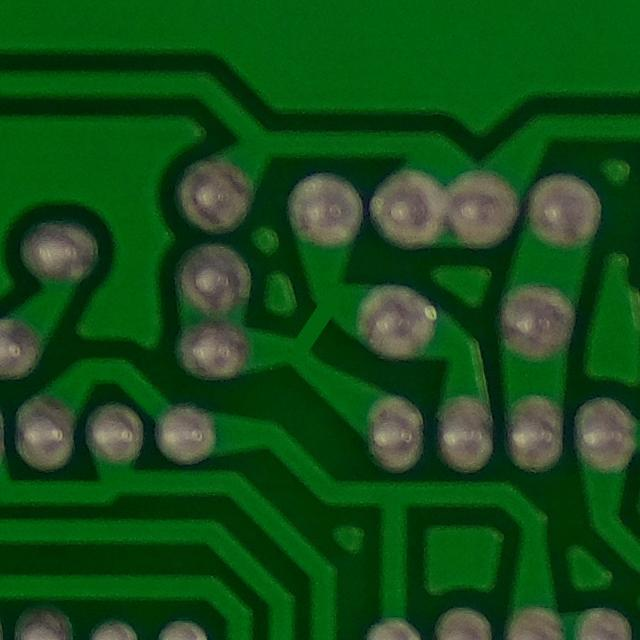short: (275, 261, 365, 380)
